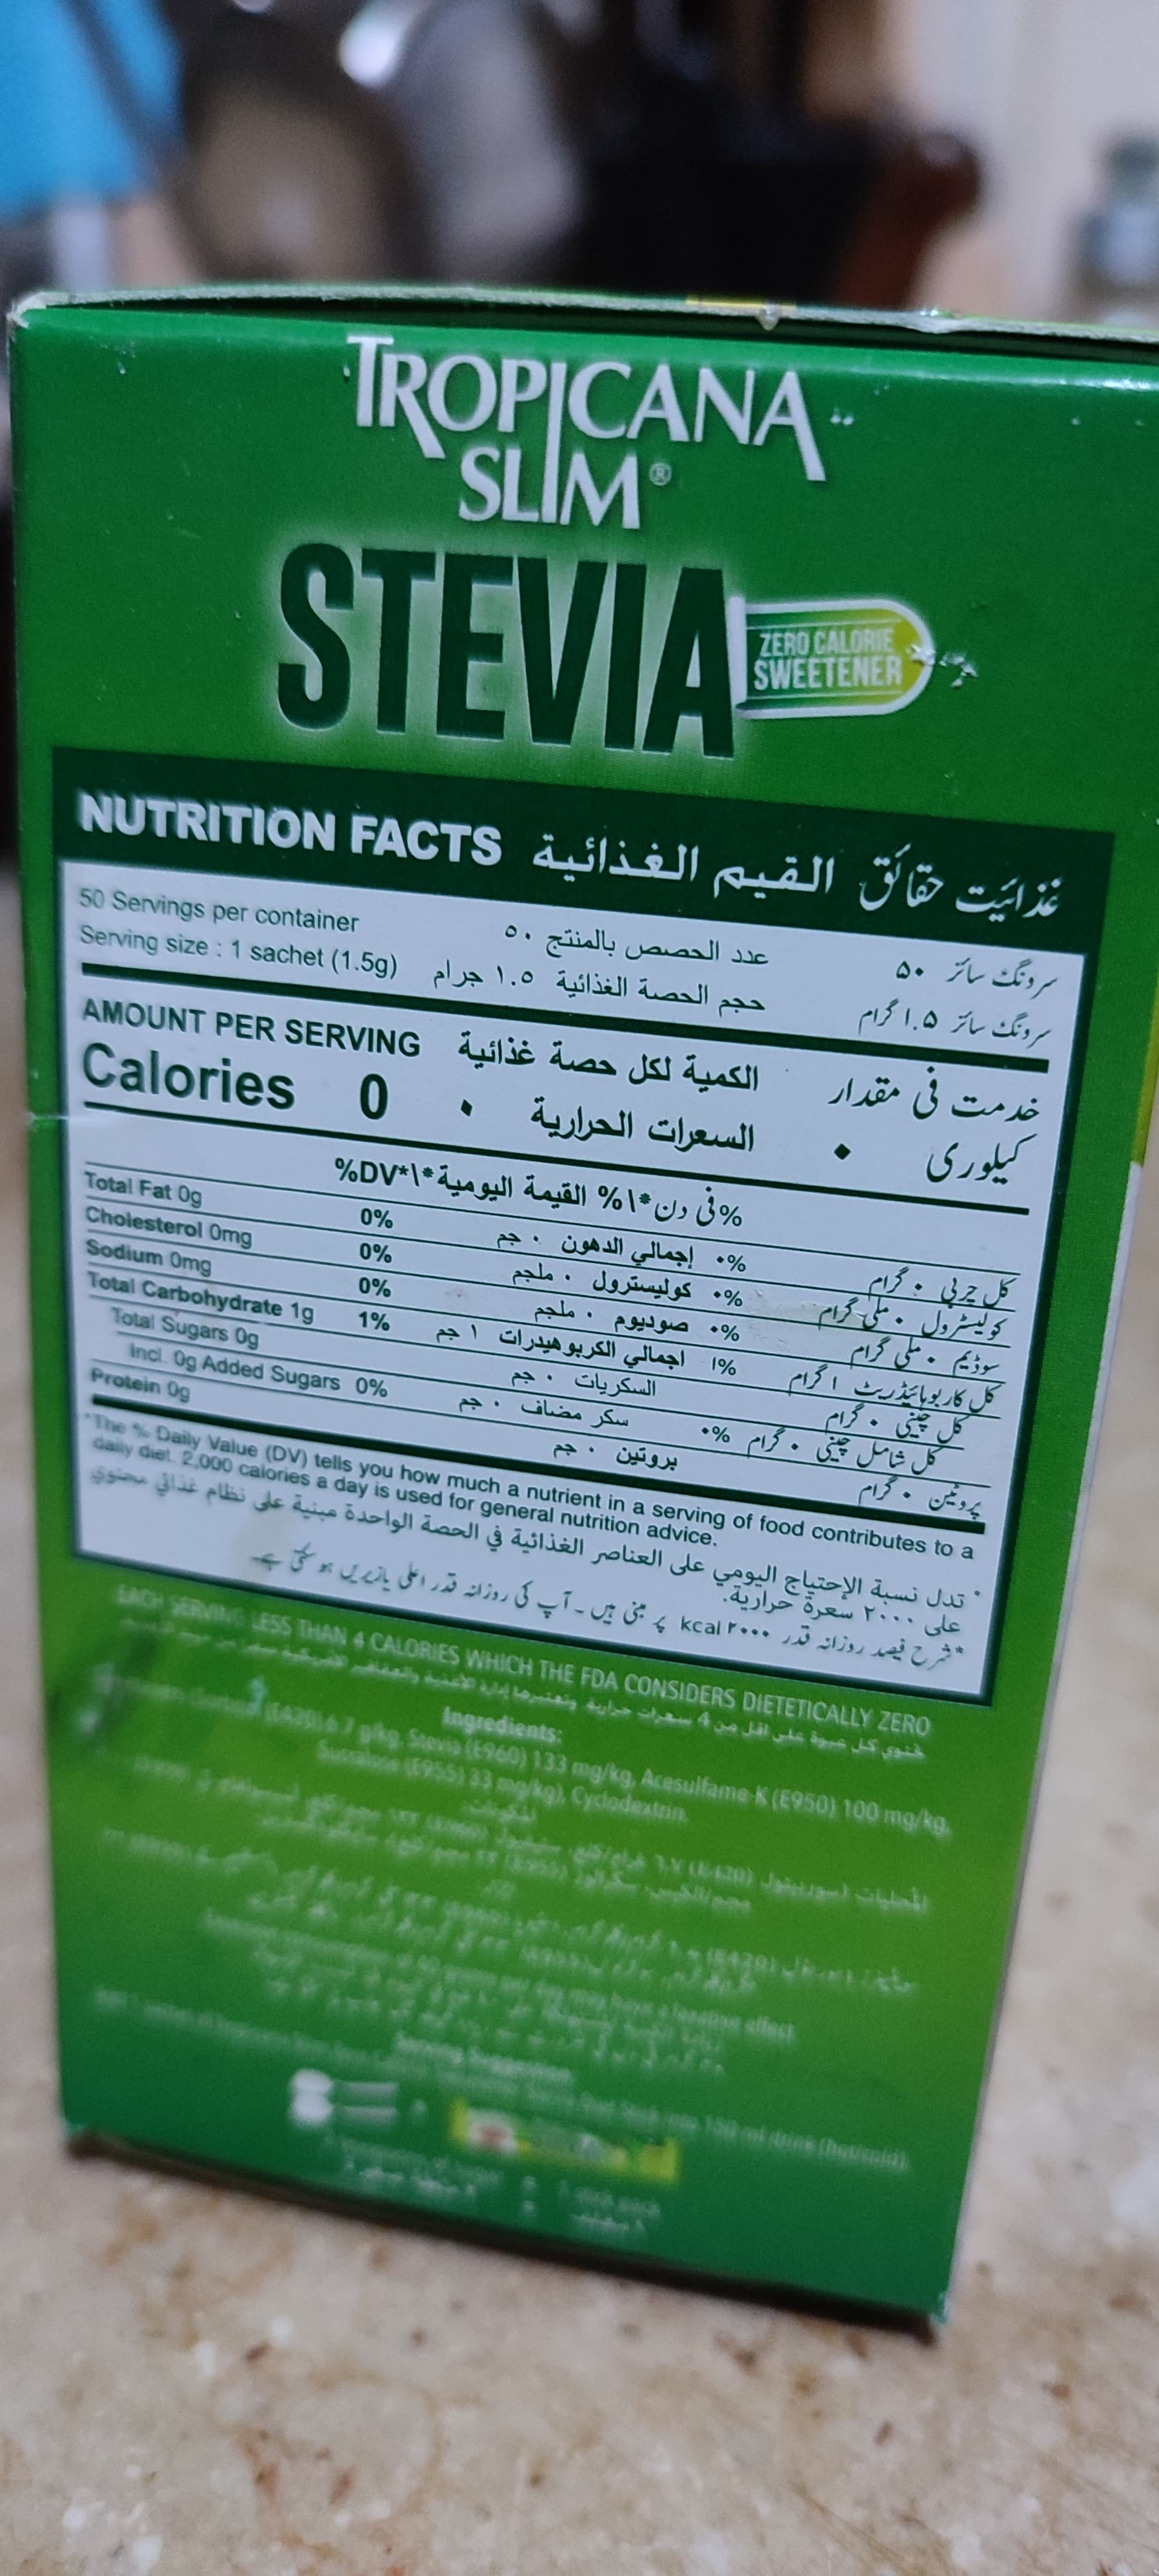table: (57, 738, 1120, 1705)
